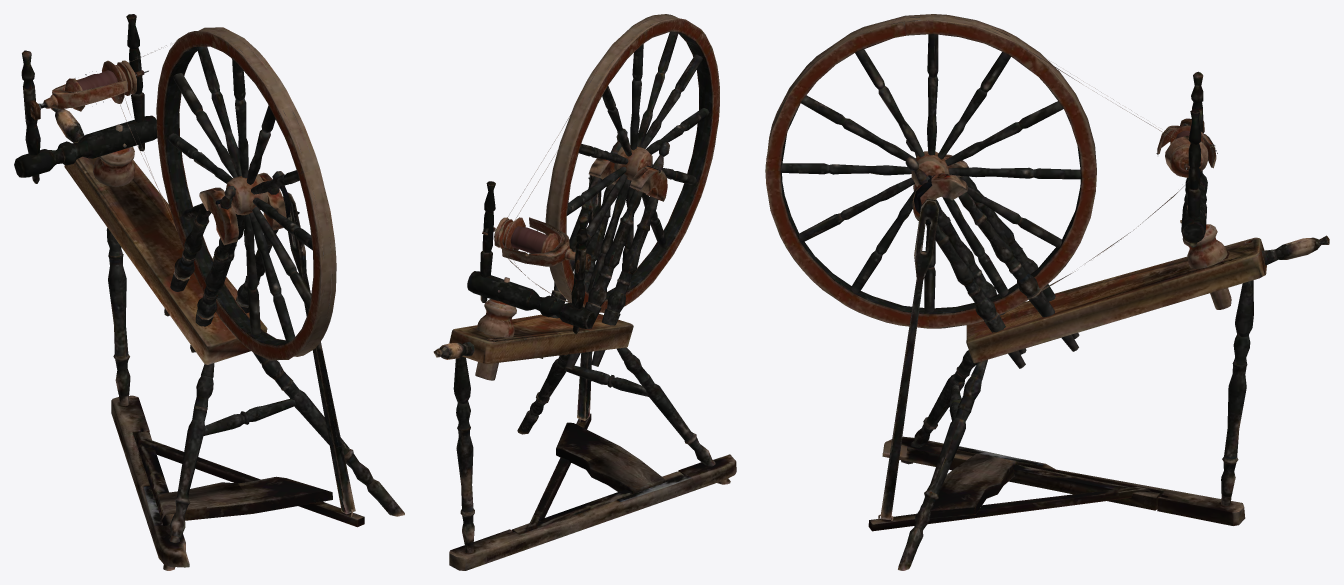
File: spinning_wheel_01.glb
3 views of the same model, side by side, from view 1: azimuth 30°, elevation 25°; view 2: azimuth 150°, elevation 25°; view 3: azimuth 270°, elevation 25° (orthographic). The views are drawn at different scales.
Visible parts, largest first — view 1: spinning_wheel_01; view 2: spinning_wheel_01; view 3: spinning_wheel_01.
Boxes of the visible parts, <box> form: spinning_wheel_01: <box>14,14,404,570</box>; spinning_wheel_01: <box>433,14,736,570</box>; spinning_wheel_01: <box>765,14,1329,570</box>.
Size of the model in its own units: 0.4894 by 0.9657 by 1.02.
Materials: 1 (1 with a texture image).
